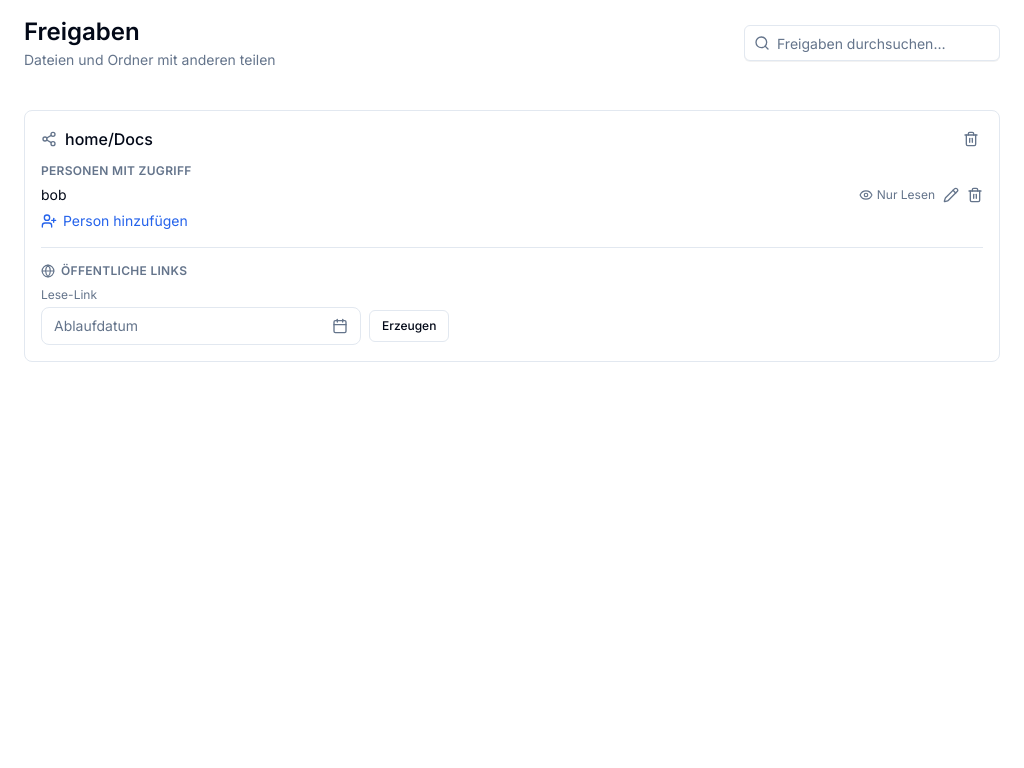
Test: SharesPage — grouped shares › blendet das Add-Formular hinter dem "Person hinzufügen"-Button ein
The image size is (1024, 768).
Expected: the text "bob" is shown, [41, 186, 66, 203]
Expected: the field with placeholder "Benutzername des Empfängers" is not shown
Click the button "Person hinzufügen": click(114, 221) [41, 211, 188, 231]
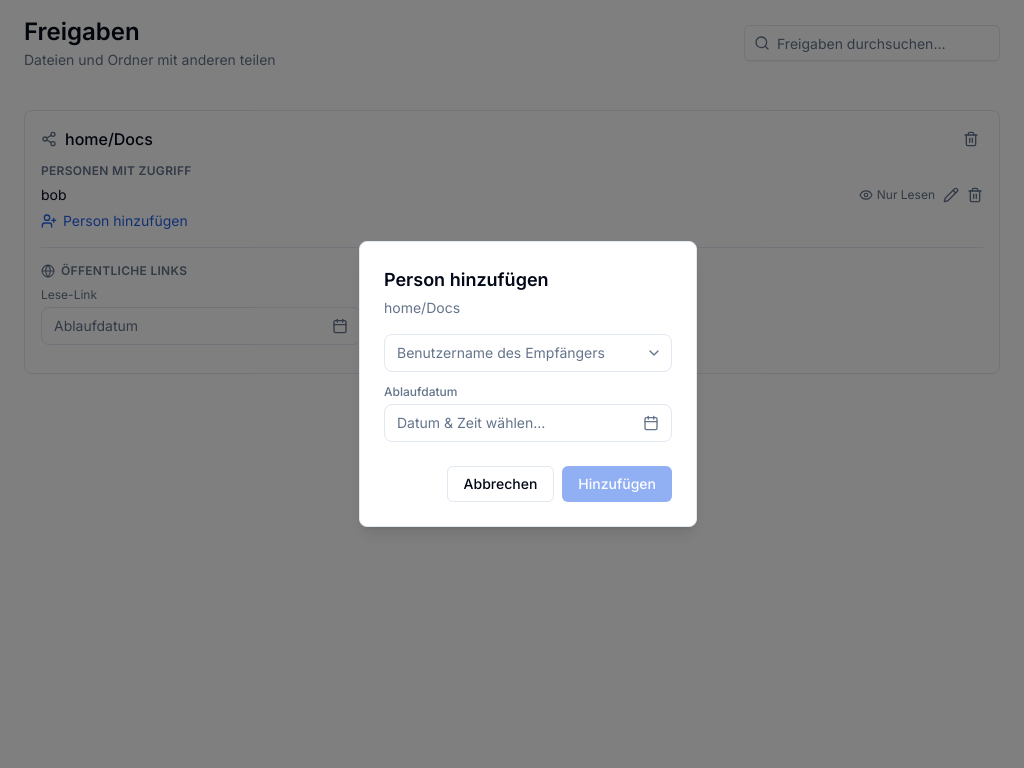
Expected: the field with placeholder "Benutzername des Empfängers" is shown, [384, 334, 672, 372]
